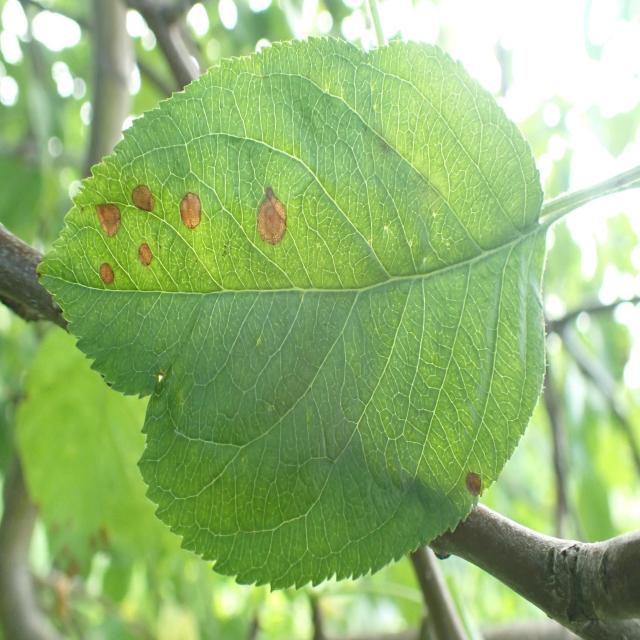Black Rot: (250, 168, 292, 251), (447, 455, 493, 519), (88, 254, 136, 310), (122, 169, 161, 235), (86, 187, 128, 246), (174, 187, 212, 242), (131, 241, 155, 277)
